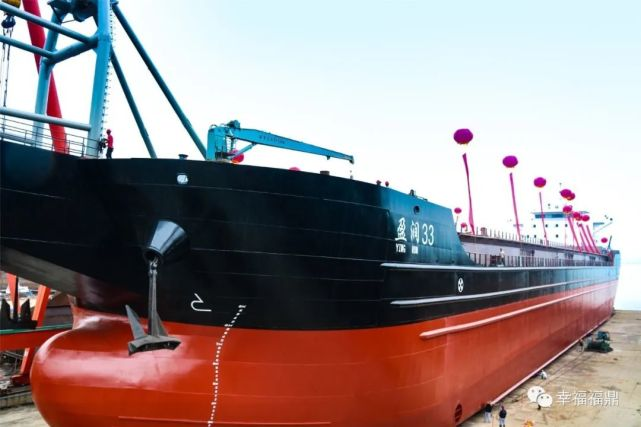Cargoship: (1, 102, 620, 424)
